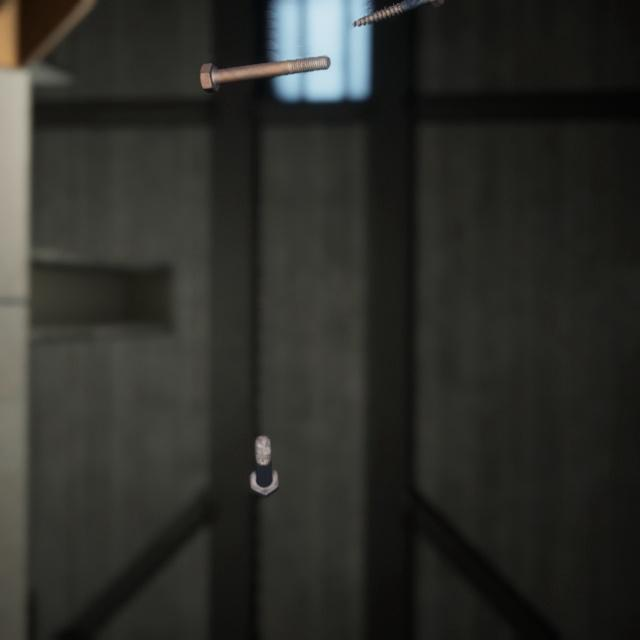bolt: (195, 39, 335, 86), (245, 408, 283, 481), (346, 0, 444, 25)
